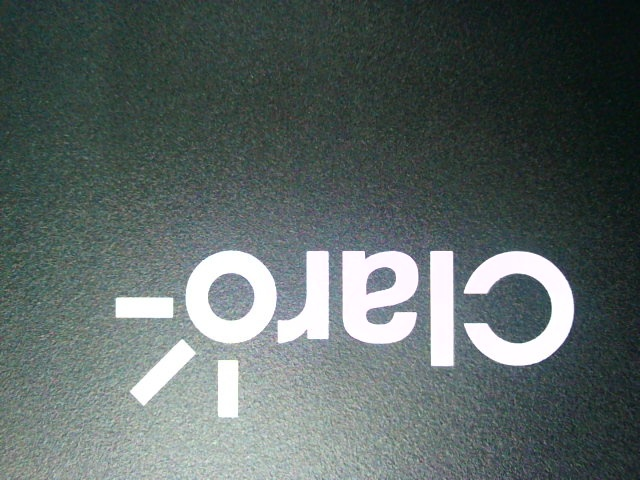BC_Claor: (99, 246, 581, 419)
